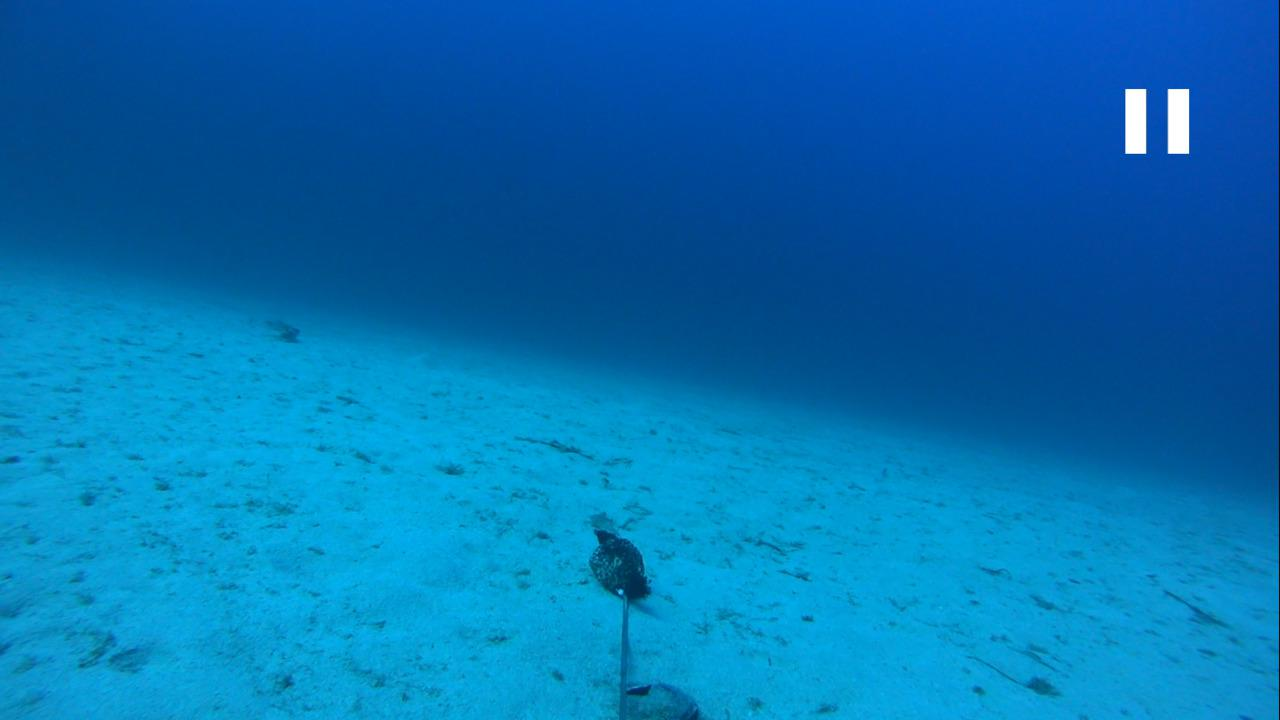dactylopterus: (238, 307, 311, 345)
